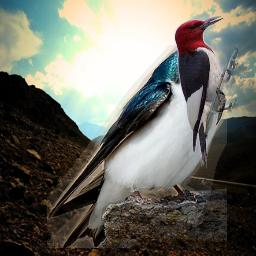Swallow: (47, 45, 227, 248)
Woodpecker: (174, 15, 238, 169)
